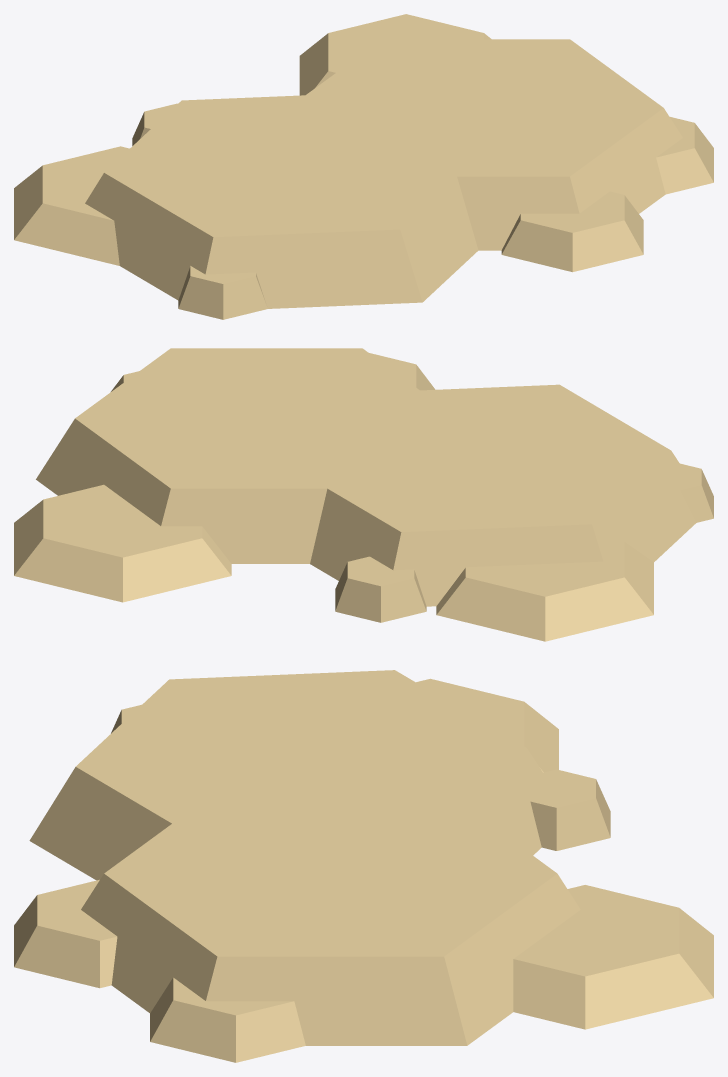
The model's file is rockFlat.fbx.
3 renders of one model, top to bottom at view 1: azimuth 30°, elevation 25°; view 2: azimuth 150°, elevation 25°; view 3: azimuth 270°, elevation 25°, orthographic. The views are drawn at different scales.
Parts seen in each view (by area): view 1: rockFlat; view 2: rockFlat; view 3: rockFlat.
Part boxes in pixels (bbox=[...]): rockFlat: bbox=[14, 14, 713, 319]; rockFlat: bbox=[14, 348, 713, 641]; rockFlat: bbox=[14, 670, 713, 1062].
Bounding box in the file's own units: 17.86 × 1.65 × 14.48.
